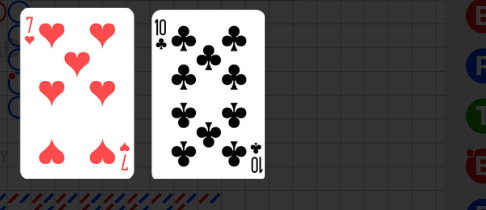10C: (248, 140, 263, 175)
7H: (24, 15, 36, 47)
